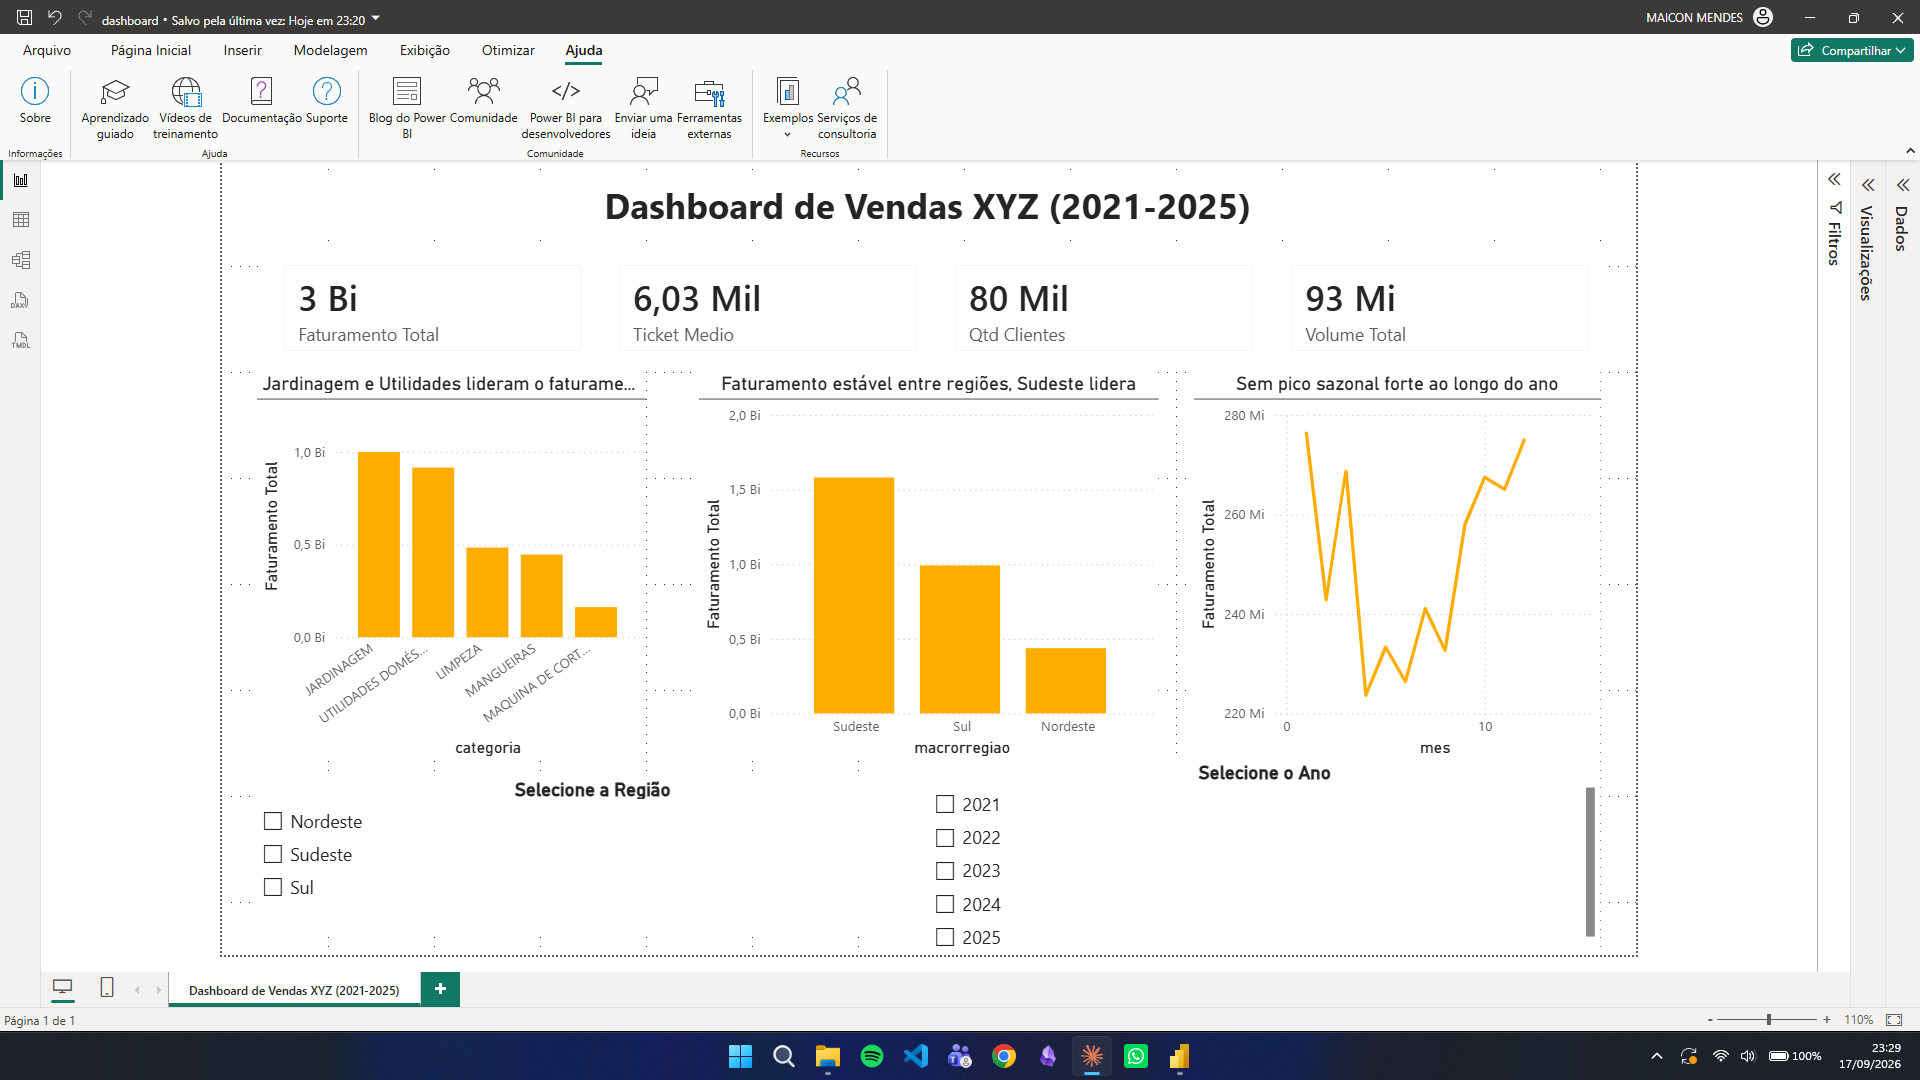

What the dashboard file says about the page in this screenshot:
{"tool":"powerbi","page":{"name":"Página 1","canvas":[1280,720],"ordinal":0},"visuals":[{"type":"cardVisual","fields":{"Data":["vendas_powerbi.Faturamento Total"]},"box":[128.9,498.9,204.4,220],"z":0},{"type":"cardVisual","fields":{"Data":["vendas_powerbi.Ticket Medio"]},"box":[324.4,498.9,204.4,220],"z":1000},{"type":"cardVisual","fields":{"Data":["vendas_powerbi.Qtd Clientes"]},"box":[528.9,498.9,204.4,220],"z":2000},{"type":"cardVisual","fields":{"Data":["vendas_powerbi.Volume Total"]},"box":[733.3,498.9,204.4,220],"z":3000},{"type":"lineChart","fields":{"Y":["vendas_powerbi.Faturamento Total"],"Category":["vendas_powerbi.mes"]},"box":[445.6,253.3,204.4,220],"z":4000},{"type":"clusteredColumnChart","fields":{"Category":["categorias_powerbi.categoria"],"Y":["vendas_powerbi.Faturamento Total"]},"box":[0,253.3,241.1,220],"z":5000},{"type":"clusteredColumnChart","fields":{"Category":["vendas_powerbi.macrorregiao"],"Y":["vendas_powerbi.Faturamento Total"]},"box":[241.1,253.3,204.4,220],"z":6000},{"type":"textSlicer","fields":{"Values":["vendas_powerbi.ano"]},"box":[898.9,253.3,241.1,73.3],"z":6001},{"type":"listSlicer","fields":{"Values":["vendas_powerbi.macrorregiao"]},"box":[764.4,253.3,134.4,220],"z":6002}]}

Visuals, with their boxes on the page's 1280x720 design canvas (x1, y1, x2, y2). These are canvas units, not pixel positions in the 1920x1080 screenshot, which may show the page scaled, cropped or inside an application window:
cardVisual - vendas_powerbi.Faturamento Total: (left=129, top=499, right=333, bottom=719)
cardVisual - vendas_powerbi.Ticket Medio: (left=324, top=499, right=529, bottom=719)
cardVisual - vendas_powerbi.Qtd Clientes: (left=529, top=499, right=733, bottom=719)
cardVisual - vendas_powerbi.Volume Total: (left=733, top=499, right=938, bottom=719)
lineChart - vendas_powerbi.Faturamento Total x vendas_powerbi.mes: (left=446, top=253, right=650, bottom=473)
clusteredColumnChart - categorias_powerbi.categoria x vendas_powerbi.Faturamento Total: (left=0, top=253, right=241, bottom=473)
clusteredColumnChart - vendas_powerbi.macrorregiao x vendas_powerbi.Faturamento Total: (left=241, top=253, right=446, bottom=473)
textSlicer - vendas_powerbi.ano: (left=899, top=253, right=1140, bottom=327)
listSlicer - vendas_powerbi.macrorregiao: (left=764, top=253, right=899, bottom=473)
